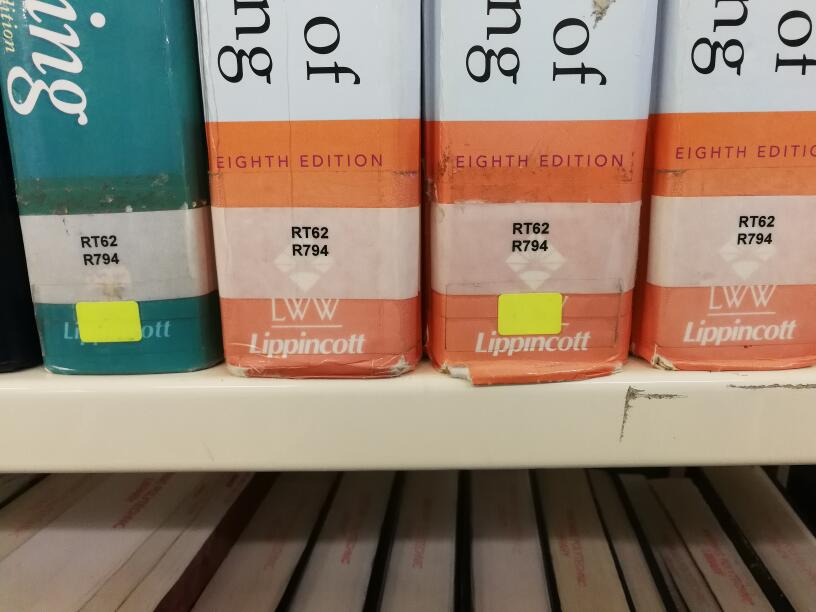booklabel: (77, 232, 123, 268), (736, 212, 777, 248), (509, 220, 551, 255), (288, 223, 329, 258)
